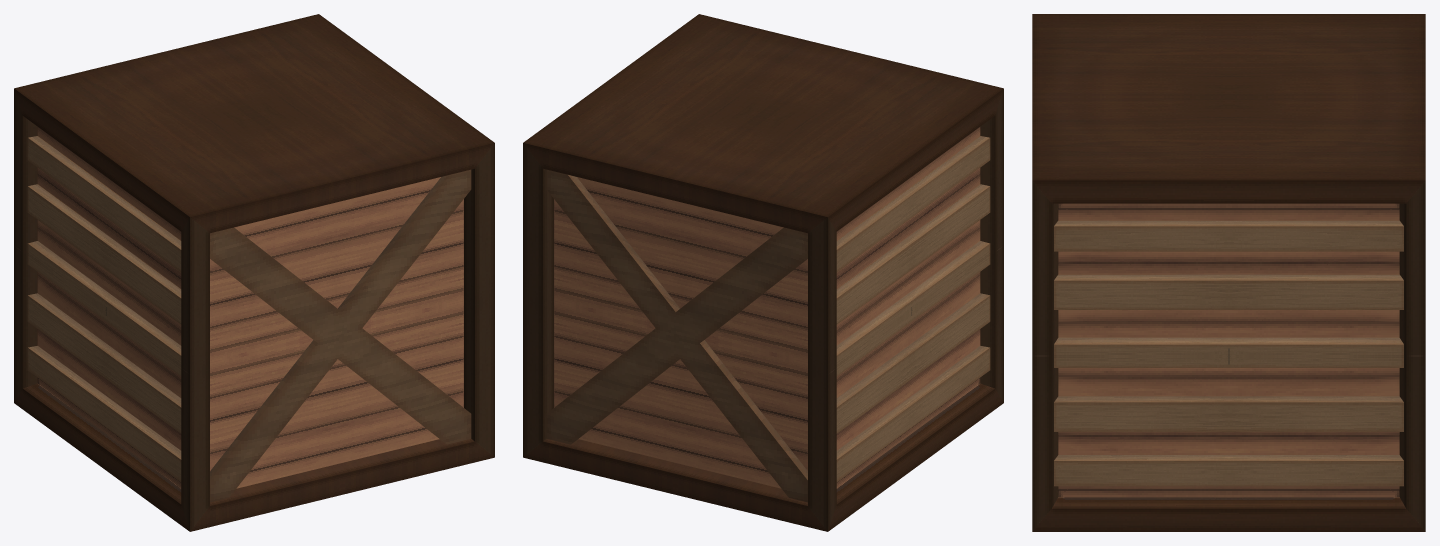
The model's file is crate.glb.
3 renders of one model, left to right at view 1: azimuth 30°, elevation 25°; view 2: azimuth 150°, elevation 25°; view 3: azimuth 270°, elevation 25°, orthographic. The views are drawn at different scales.
Visible parts, largest first — view 1: Crate; view 2: Crate; view 3: Crate.
Part boxes in pixels (bbox=[...]): Crate: bbox=[14, 14, 494, 531]; Crate: bbox=[523, 14, 1003, 531]; Crate: bbox=[1032, 14, 1425, 531].
Size of the model in its own units: 0.76 by 0.75 by 0.76.
2 materials, 2 textured.
